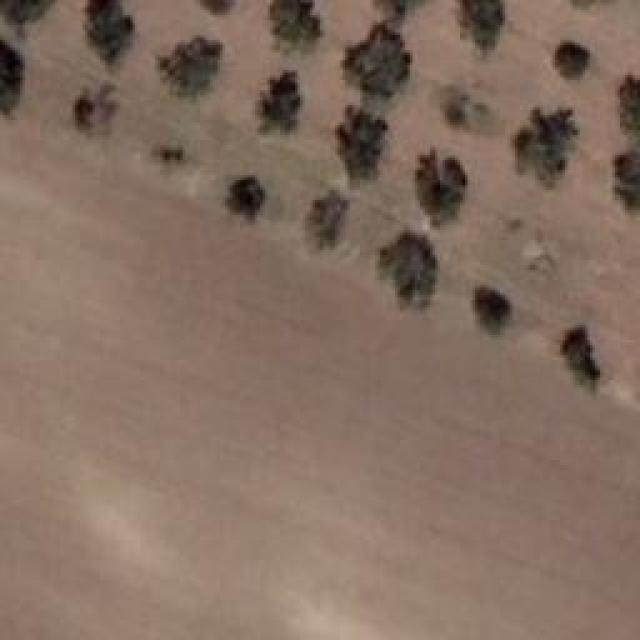Tree: (513, 107, 579, 187), (343, 23, 412, 96), (380, 233, 436, 309), (415, 150, 468, 227), (160, 38, 224, 101), (338, 108, 389, 183), (88, 0, 133, 62), (560, 325, 600, 391), (260, 72, 301, 132), (463, 0, 507, 52), (308, 193, 348, 250), (272, 0, 320, 42), (75, 85, 115, 133), (444, 85, 488, 127), (0, 40, 24, 113), (372, 0, 442, 25), (228, 178, 267, 220), (478, 288, 512, 335), (615, 148, 640, 211), (555, 43, 591, 80), (150, 142, 189, 175), (0, 0, 53, 24), (620, 75, 640, 138), (197, 0, 242, 21)
